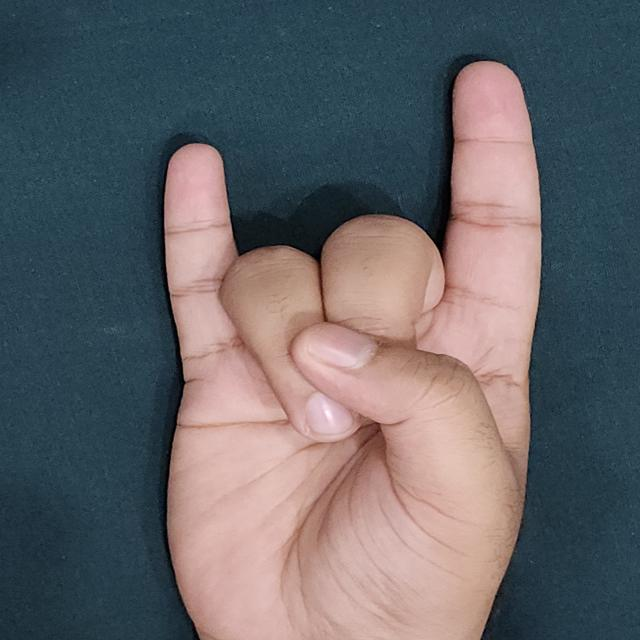ا: (145, 50, 565, 640)
